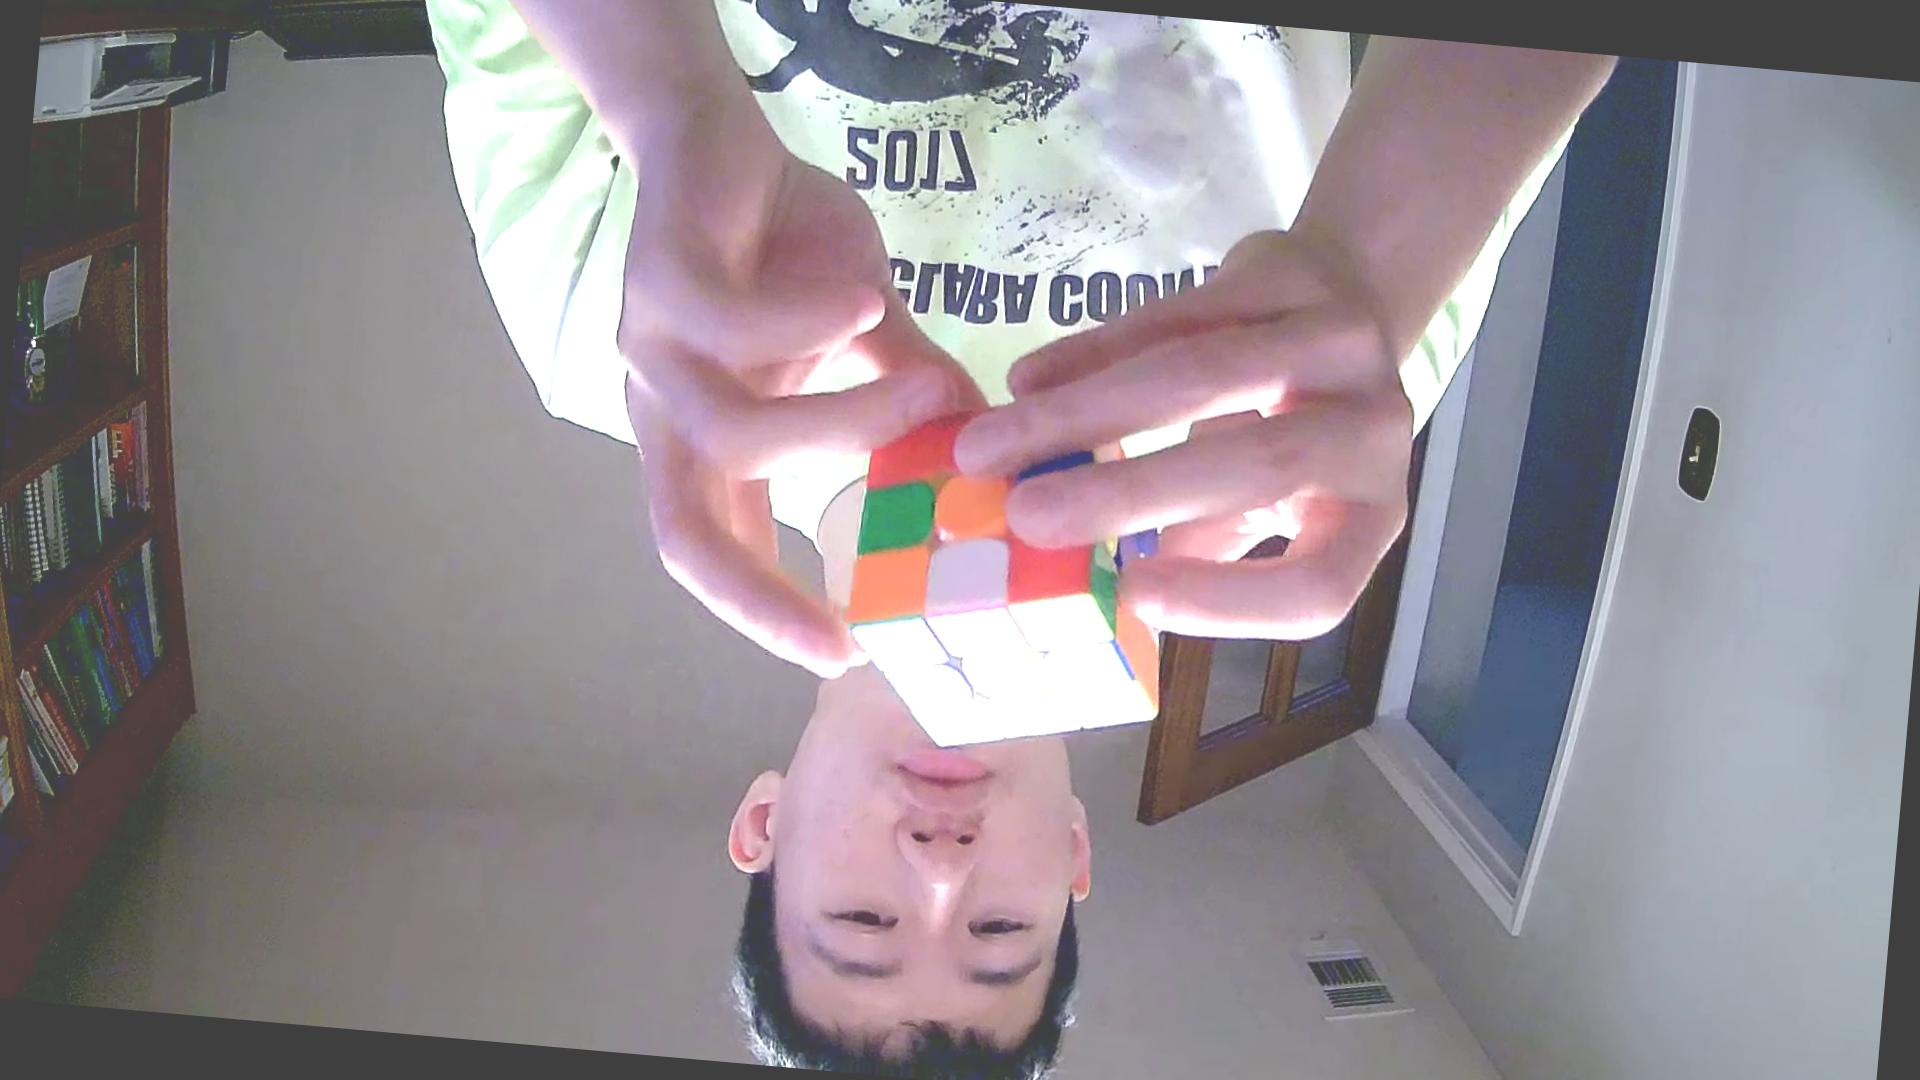Rubiks-Cube: (835, 397, 1199, 767)
